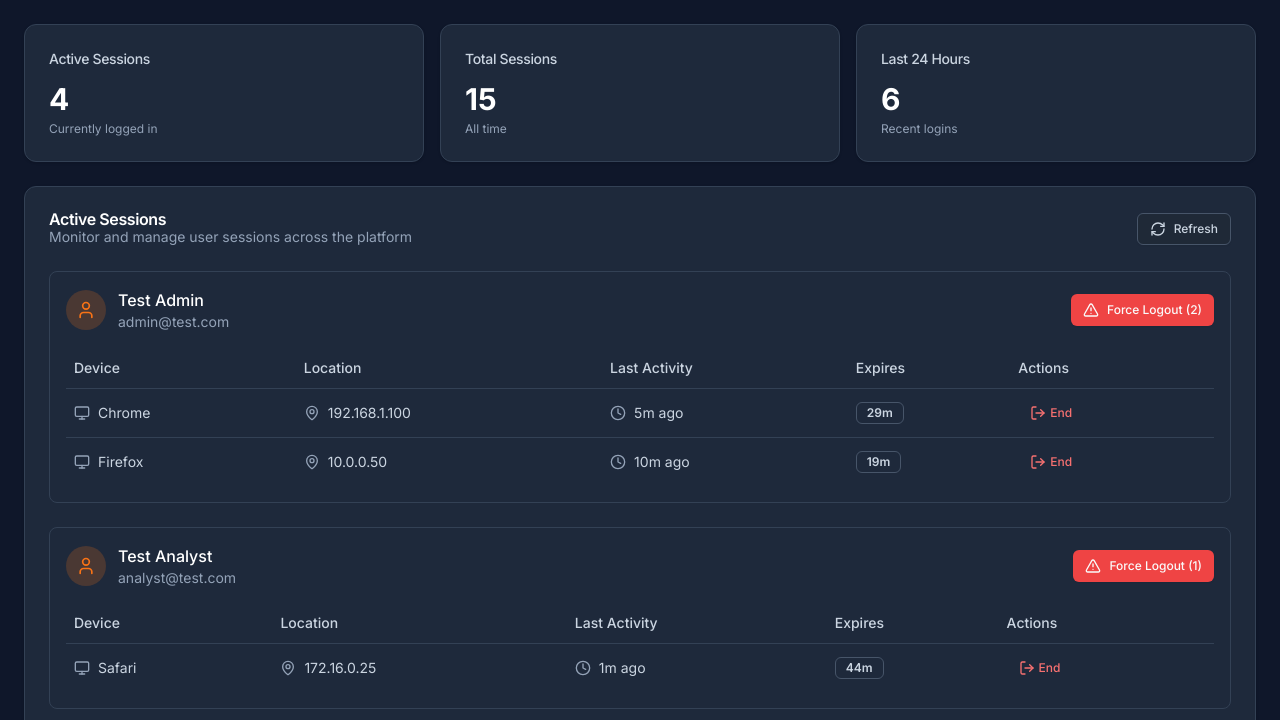
it: Admin Components Integration Tests › SessionManagement › Revoke/Terminate Specific Sessions › should close dialog when Cancel is clicked
Click the button "End" in the row of "Chrome": click(1051, 412) [1018,396,1084,428]
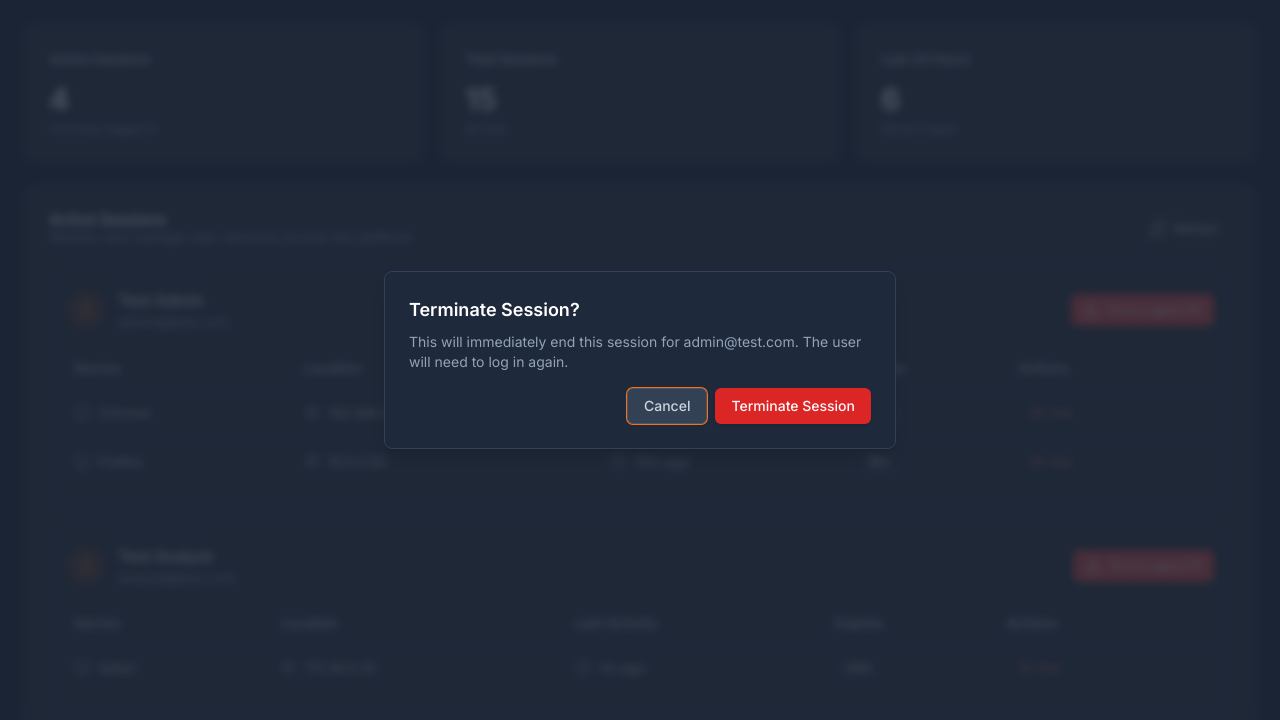
Expected: the heading "Terminate Session?" is shown, [409,299,580,320]
Click the button "Cancel": click(667, 406) [627,388,708,424]
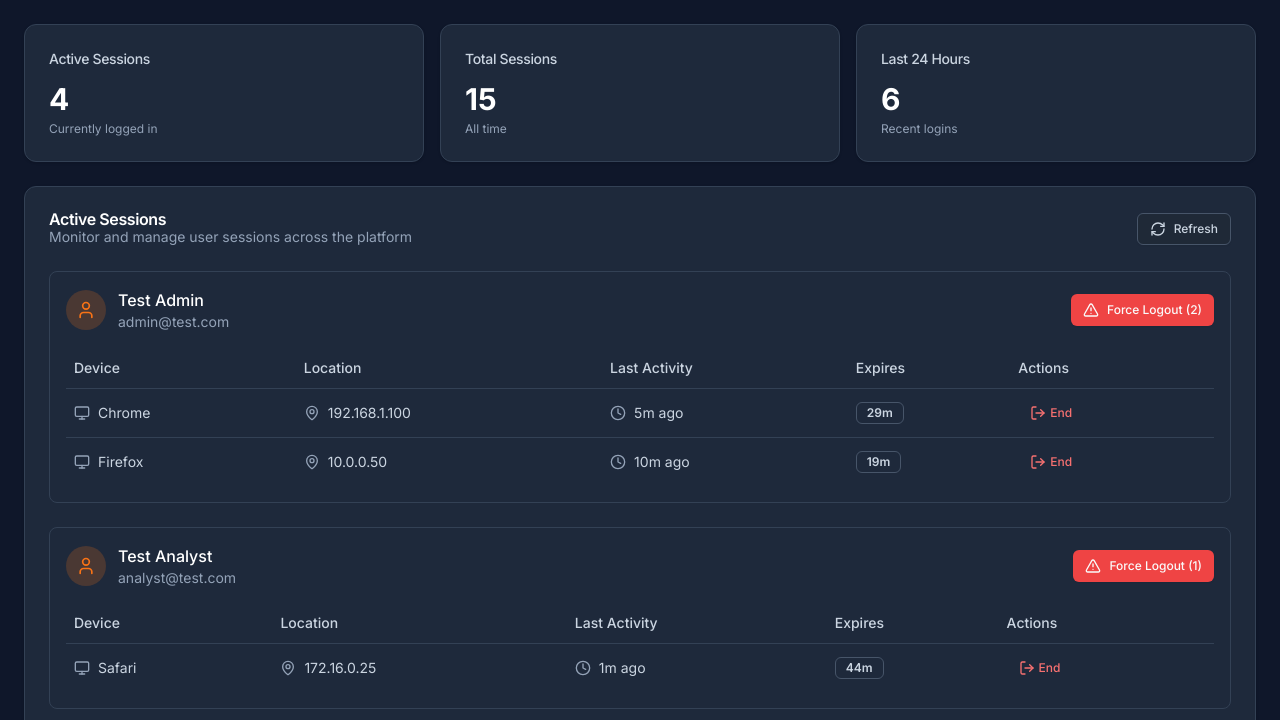
Expected: the heading "Terminate Session?" is gone
